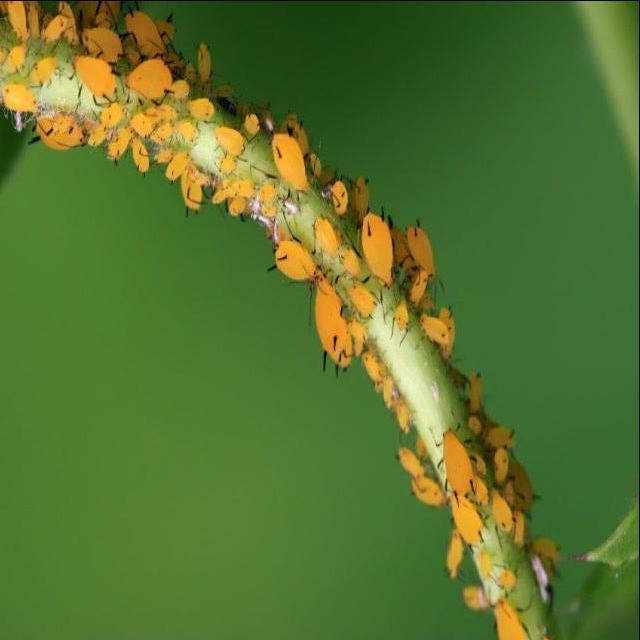aphid: (308, 278, 362, 396), (356, 194, 408, 309), (266, 111, 314, 208), (437, 406, 480, 514), (442, 490, 502, 564), (268, 218, 324, 297), (118, 48, 178, 115), (410, 218, 444, 290), (391, 438, 428, 479)
